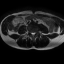CCS_normal: (32, 31, 34, 38)
LFS_severe_stenosis: (36, 30, 37, 34)
LLS_normal: (34, 30, 36, 36)
RFS_severe_stenosis: (29, 30, 31, 34)
RLS_normal: (31, 30, 32, 37)
